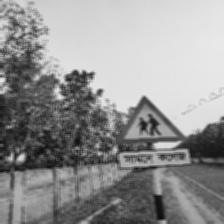College-in-front: (112, 97, 224, 195)
